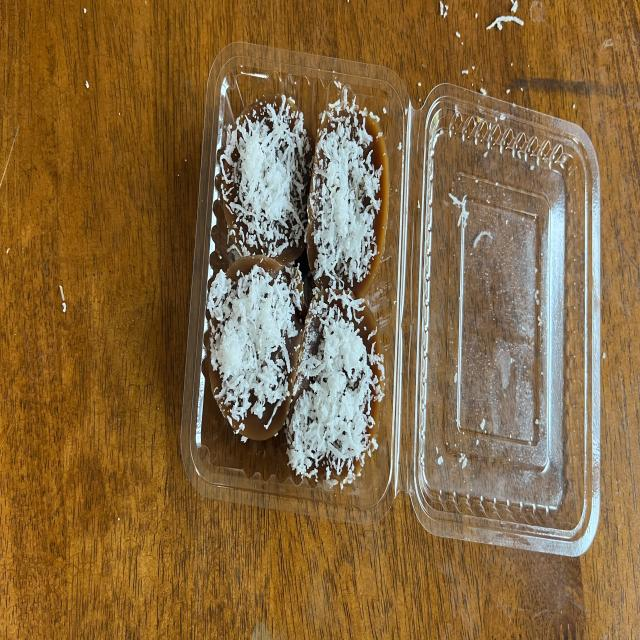Kuih lompang: (286, 289, 385, 487), (202, 256, 306, 442), (308, 89, 389, 298), (219, 96, 312, 264)
